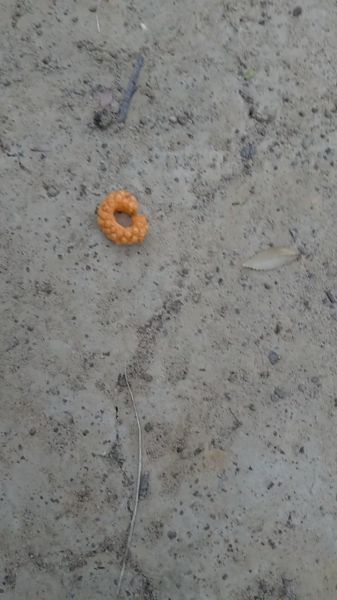eggs: (95, 177, 150, 249)
